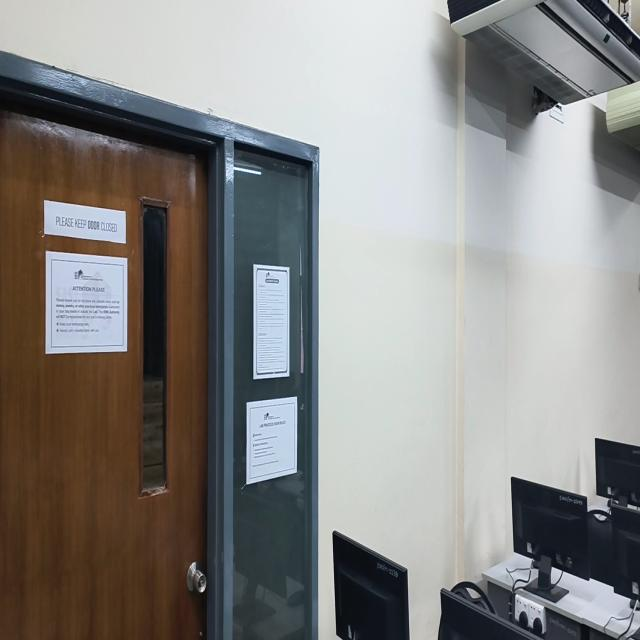Ac: (448, 0, 640, 104), (604, 82, 640, 151)
Chair: (587, 508, 613, 584), (451, 581, 496, 613)
Monitor: (333, 531, 409, 639), (511, 478, 589, 579), (438, 588, 542, 639), (595, 439, 640, 507), (611, 506, 640, 601)
